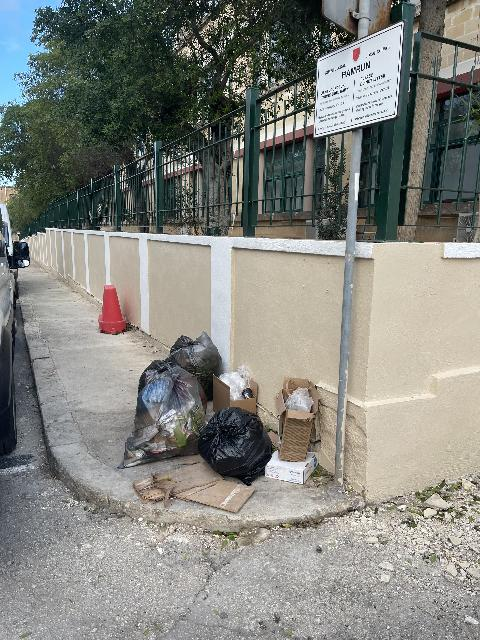Mixed -Black-: (198, 407, 271, 485)
Other: (133, 461, 254, 512), (275, 377, 318, 462), (213, 365, 258, 413), (265, 451, 318, 484)
Recyclable -Grey-: (124, 355, 207, 466), (167, 331, 222, 390)
